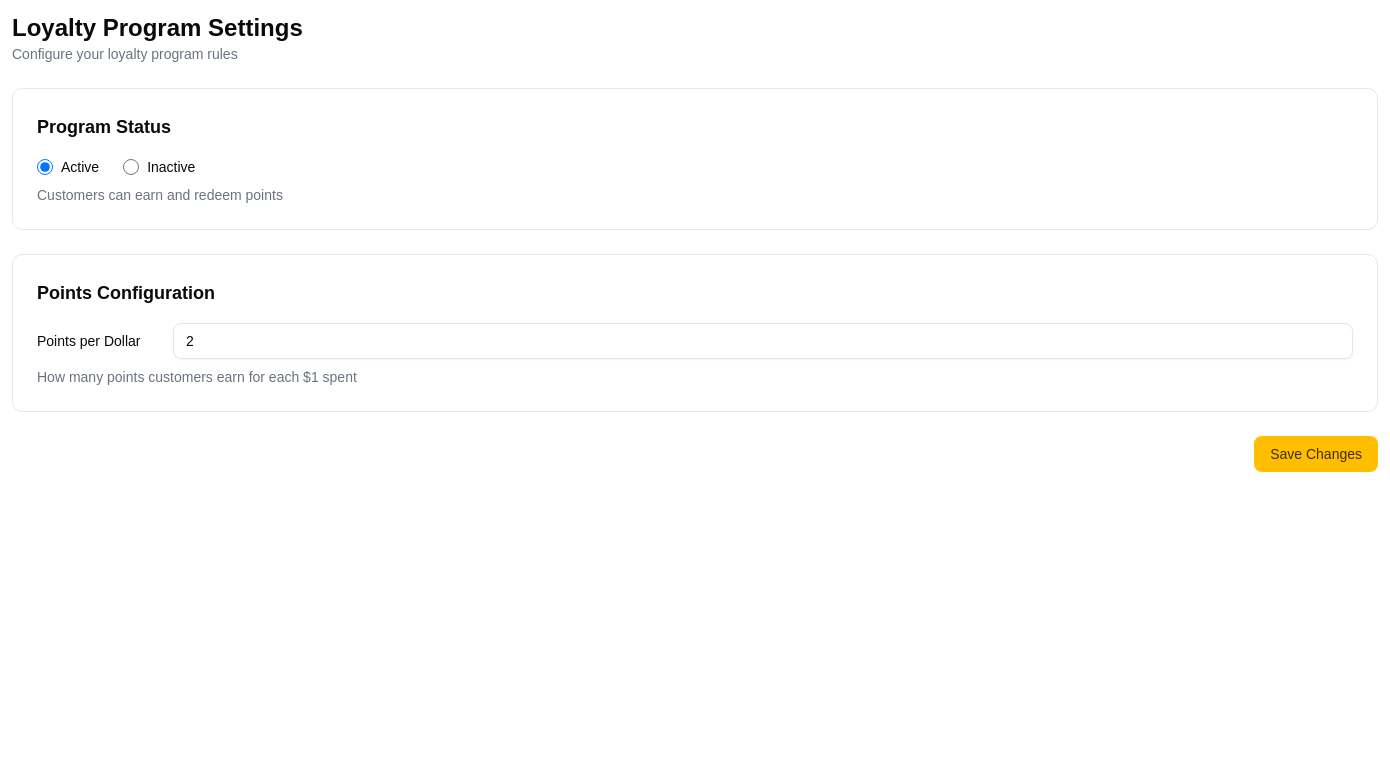
Test: LoyaltyRulesClient › Form Submission › should show success message after successful save
The width and height of the screenshot is (1390, 780).
What coordinates should you click on to do the following:
click the button "Save Changes"
I would click on:
 (1316, 454)
Its box is [1254,436,1378,472].
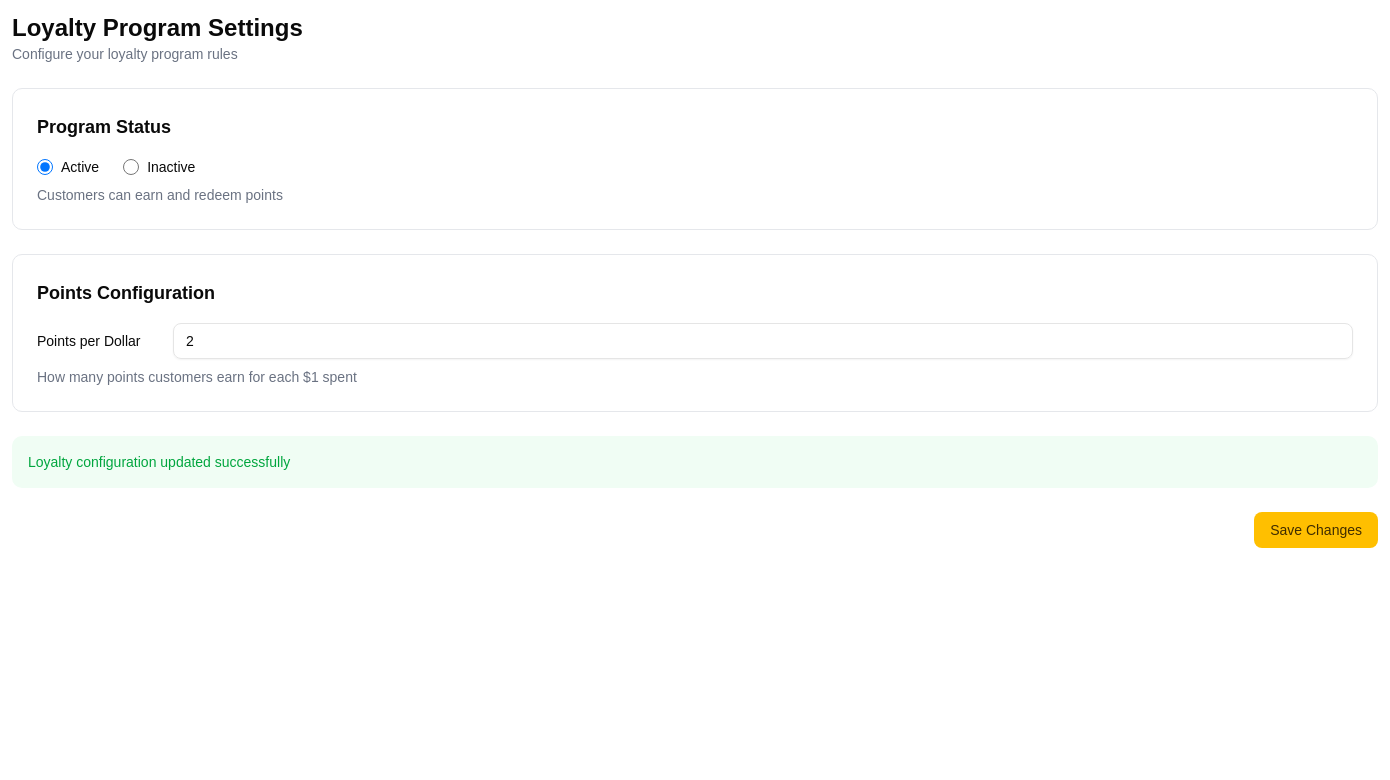
Check: the text "Loyalty configuration updated successfully" is shown, box [12,436,1378,488]
